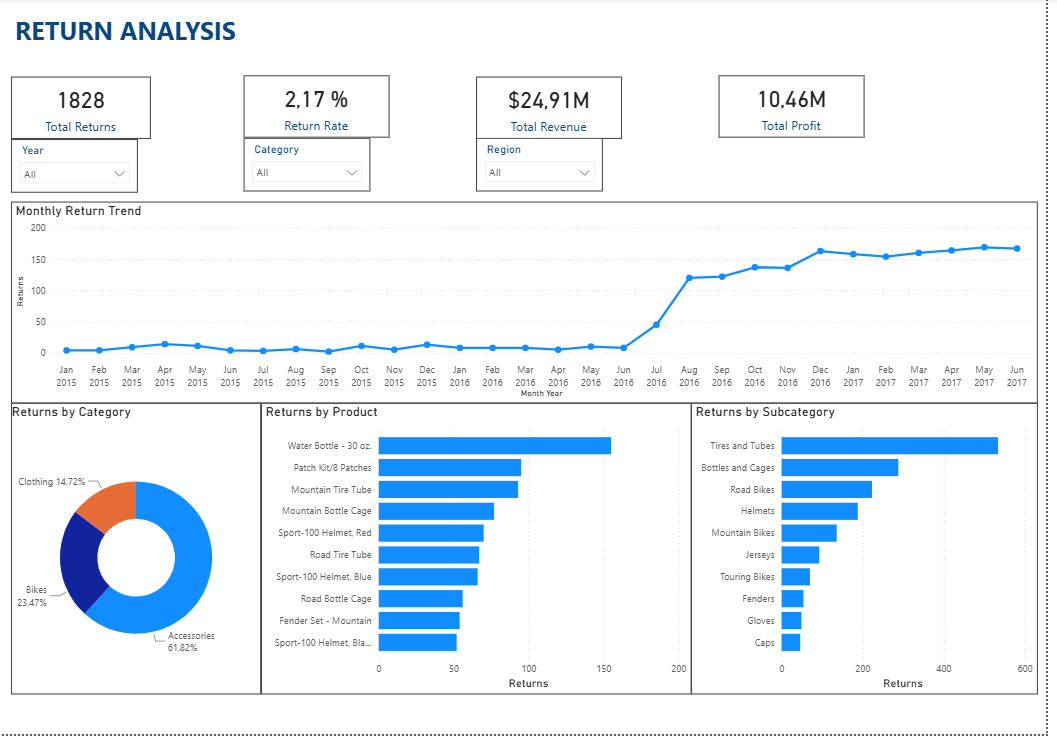

The page's visual inventory and layout, read from the dashboard file:
{"tool":"powerbi","page":{"name":"Returns Analysis","canvas":[1350,950],"ordinal":4},"visuals":[{"type":"slicer","fields":{"Values":["Calendar.Year"]},"box":[14.5,182.3,163.3,69],"z":0},{"type":"card","fields":{"Values":["vw_SalesAnalysis.Total Returns"]},"box":[14.5,101.6,179.8,80],"z":1},{"type":"card","fields":{"Values":["vw_SalesAnalysis.Return Rate"]},"box":[314.6,100,188,80],"z":2},{"type":"card","fields":{"Values":["vw_SalesAnalysis.Total Revenue"]},"box":[614.7,101.6,188,80],"z":3},{"type":"card","fields":{"Values":["vw_SalesAnalysis.Total Profit"]},"box":[927.7,100,188,80],"z":4},{"type":"slicer","fields":{"Values":["vw_SalesAnalysis.CategoryName"]},"box":[314.6,180.7,163.3,69],"z":5},{"type":"slicer","fields":{"Values":["vw_SalesAnalysis.Region"]},"box":[614.7,180.7,163.3,69],"z":6},{"type":"donutChart","title":"Returns by Category","fields":{"Y":["vw_SalesAnalysis.Total Returns"],"Category":["vw_ProductDetails.CategoryName"]},"box":[14.5,522.8,322.7,375.9],"z":7},{"type":"clusteredBarChart","title":"Returns by Subcategory","fields":{"Y":["vw_SalesAnalysis.Total Returns"],"Category":["vw_ProductDetails.SubcategoryName"]},"box":[892.2,522.8,446.9,375.9],"z":8},{"type":"clusteredBarChart","title":"Returns by Product","fields":{"Category":["vw_ProductDetails.ProductName"],"Y":["vw_SalesAnalysis.Total Returns"]},"box":[337.2,522.8,555,375.9],"z":9},{"type":"lineChart","title":"Monthly Return Trend","fields":{"Category":["Calendar.Month Year"],"Y":["vw_SalesAnalysis.Total Returns"]},"box":[14.5,263,1324.7,259.8],"z":10},{"type":"textbox","box":[14.5,14.5,730.9,74.2],"z":11}]}

Visuals, with their boxes in screenshot pixels (x1, y1, x2, y2), scaled from the page's 1350x950 canvas onto the 1057x740 screenshot:
slicer - Calendar.Year: region(11, 142, 139, 196)
card - vw_SalesAnalysis.Total Returns: region(11, 79, 152, 141)
card - vw_SalesAnalysis.Return Rate: region(246, 78, 394, 140)
card - vw_SalesAnalysis.Total Revenue: region(481, 79, 628, 141)
card - vw_SalesAnalysis.Total Profit: region(726, 78, 874, 140)
slicer - vw_SalesAnalysis.CategoryName: region(246, 141, 374, 195)
slicer - vw_SalesAnalysis.Region: region(481, 141, 609, 195)
"Returns by Category" donutChart: region(11, 407, 264, 700)
"Returns by Subcategory" clusteredBarChart: region(699, 407, 1048, 700)
"Returns by Product" clusteredBarChart: region(264, 407, 699, 700)
"Monthly Return Trend" lineChart: region(11, 205, 1049, 407)
textbox: region(11, 11, 584, 69)
